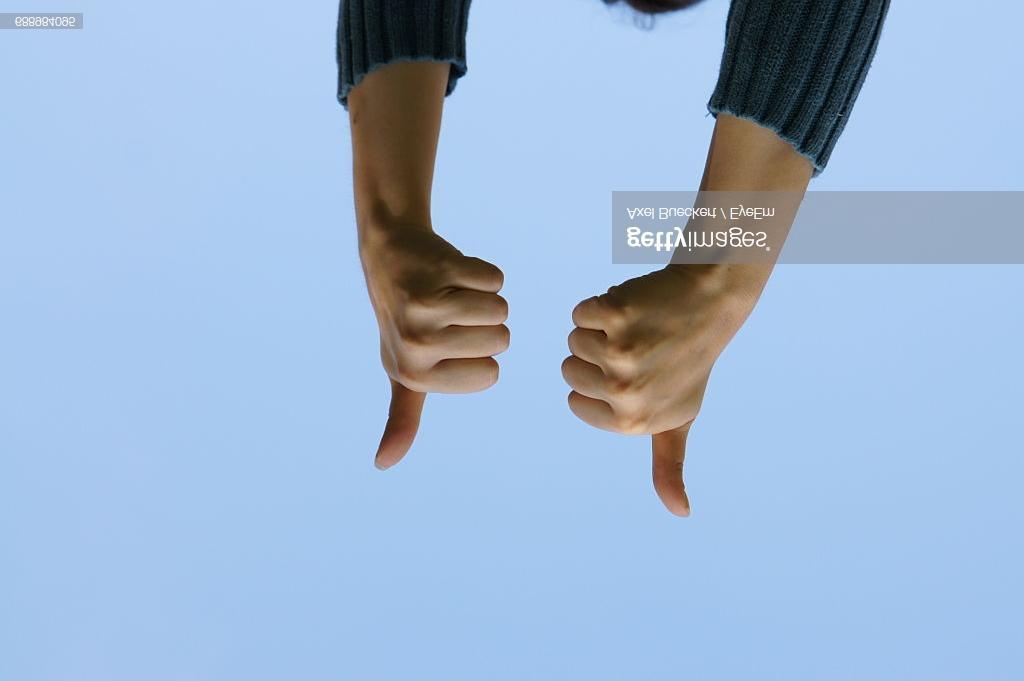thumbsdown: (561, 290, 696, 518), (373, 258, 511, 472)
